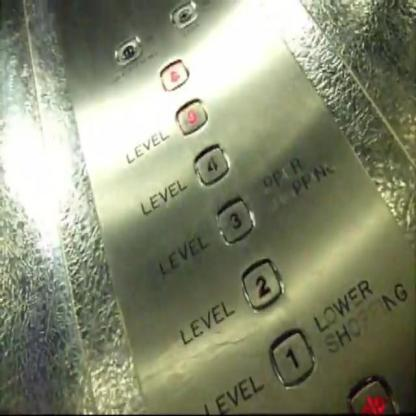1: (266, 324, 315, 389)
2: (240, 254, 286, 311)
3: (214, 195, 253, 248)
4: (193, 144, 229, 186)
5: (173, 96, 208, 136)
alarm: (158, 54, 190, 92)
keyhole: (114, 36, 143, 65), (170, 1, 198, 31)
